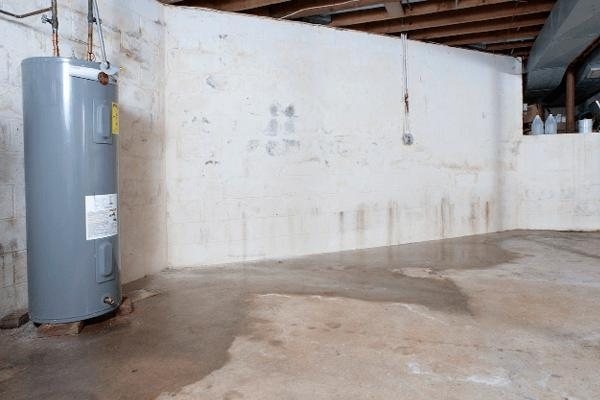water accumulation: (0, 229, 599, 400)
